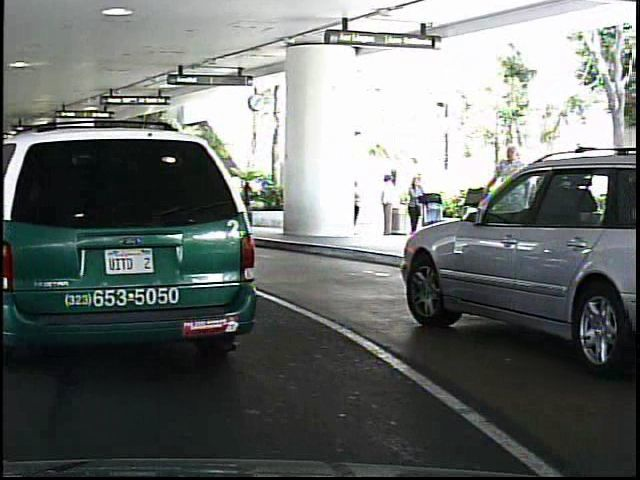person: (482, 137, 532, 275), (399, 168, 429, 239)
